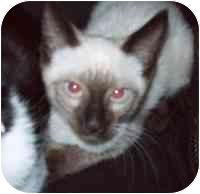siamese: (33, 1, 173, 152)
